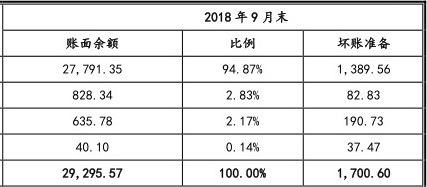column: (203, 2, 288, 187), (61, 1, 123, 186), (336, 1, 391, 187)
row: (4, 10, 425, 24), (2, 36, 427, 49), (1, 89, 427, 100), (1, 116, 427, 127), (1, 168, 427, 179), (1, 64, 427, 74), (1, 142, 427, 152)
